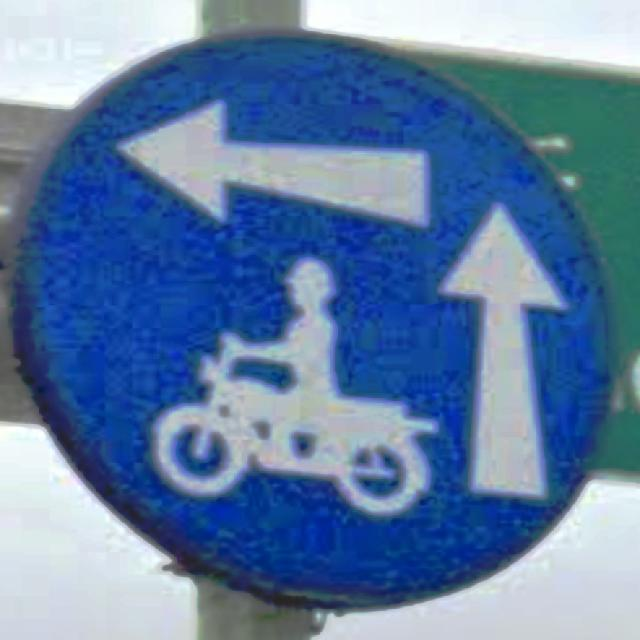twostageturn: (32, 32, 614, 596)
